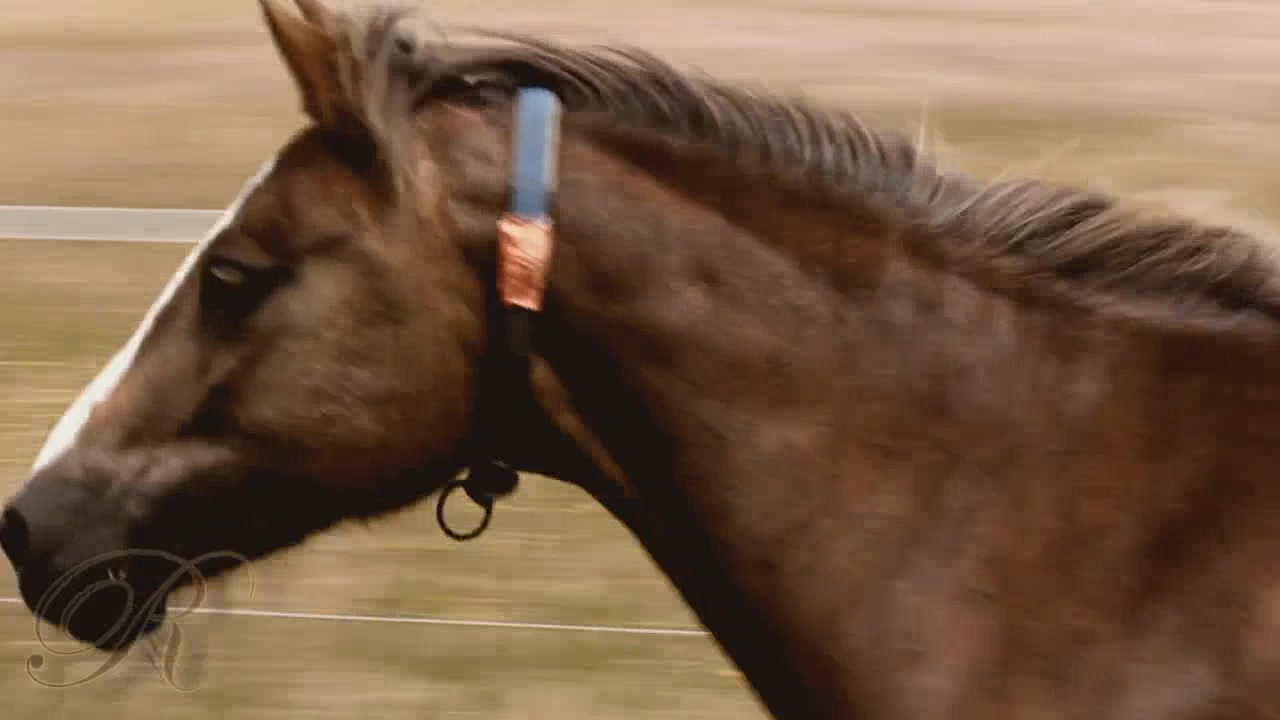horse: (2, 2, 1280, 720)
